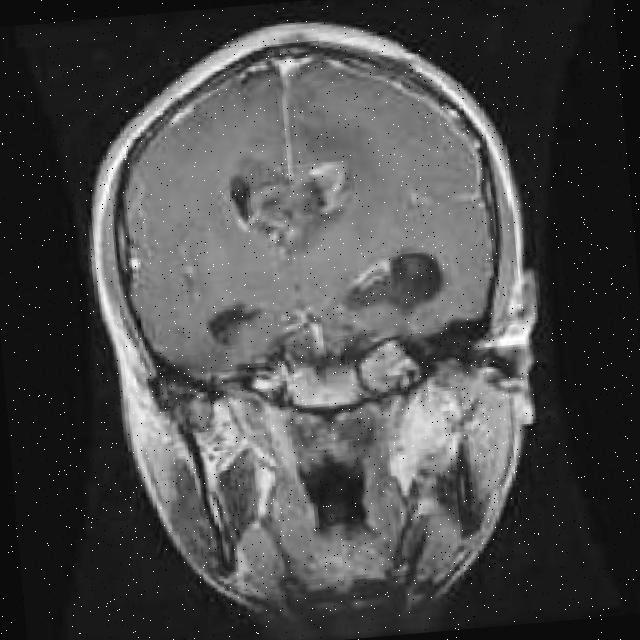EMCI: (326, 255, 461, 332)
